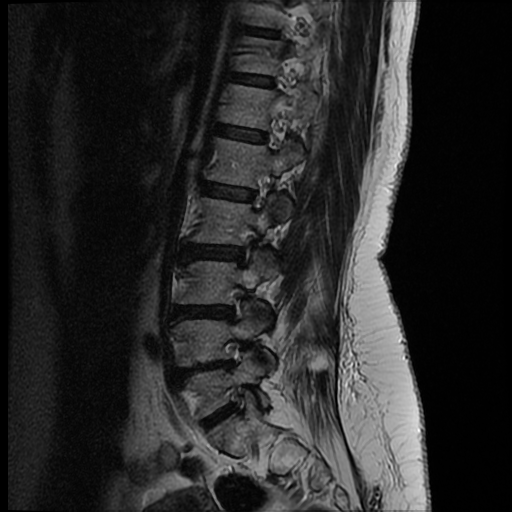RFS0: (242, 167, 280, 218)
RFS1: (227, 221, 265, 272), (214, 330, 250, 375)
